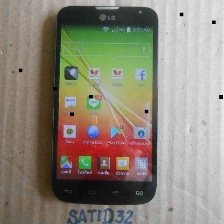phone: (46, 3, 161, 207)
